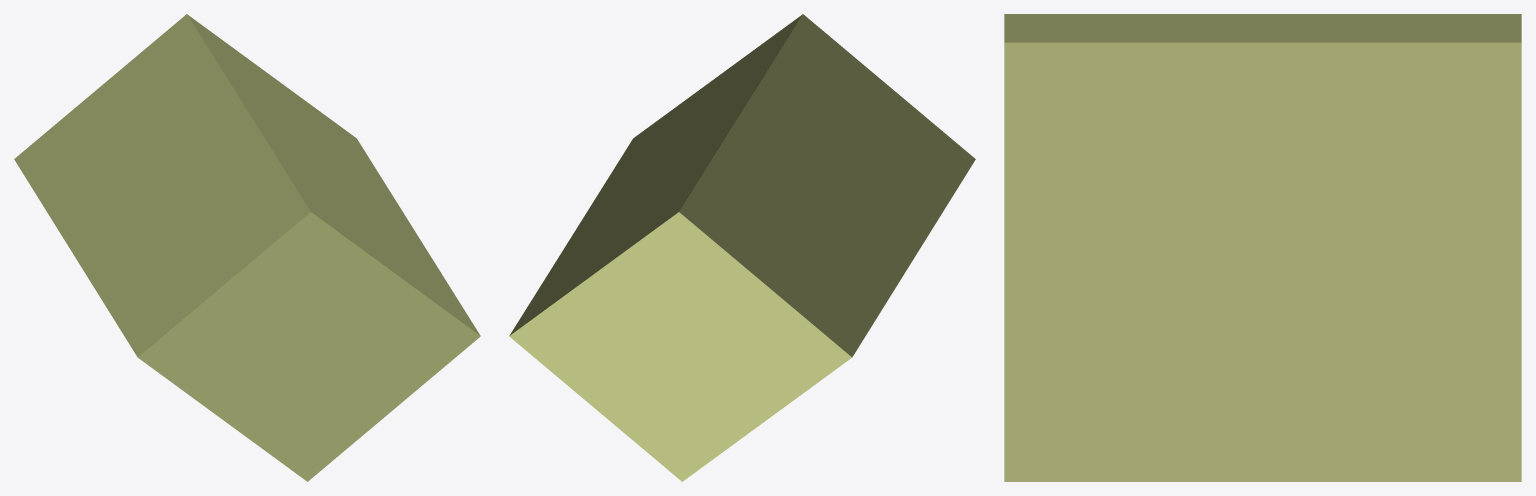
3 views of the same model, side by side, from view 1: azimuth 30°, elevation 25°; view 2: azimuth 150°, elevation 25°; view 3: azimuth 270°, elevation 25° (orthographic). The views are drawn at different scales.
Parts seen in each view (by area): view 1: 0_1_2_0_3_3_1_3_3_0_3; view 2: 0_1_2_0_3_3_1_3_3_0_3; view 3: 0_1_2_0_3_3_1_3_3_0_3.
Part boxes in pixels (<box>): 0_1_2_0_3_3_1_3_3_0_3: <box>14,14,480,481</box>; 0_1_2_0_3_3_1_3_3_0_3: <box>509,14,975,481</box>; 0_1_2_0_3_3_1_3_3_0_3: <box>1004,14,1521,481</box>.
Bounding box in the file's own units: 9.08 × 9.69 × 9.
